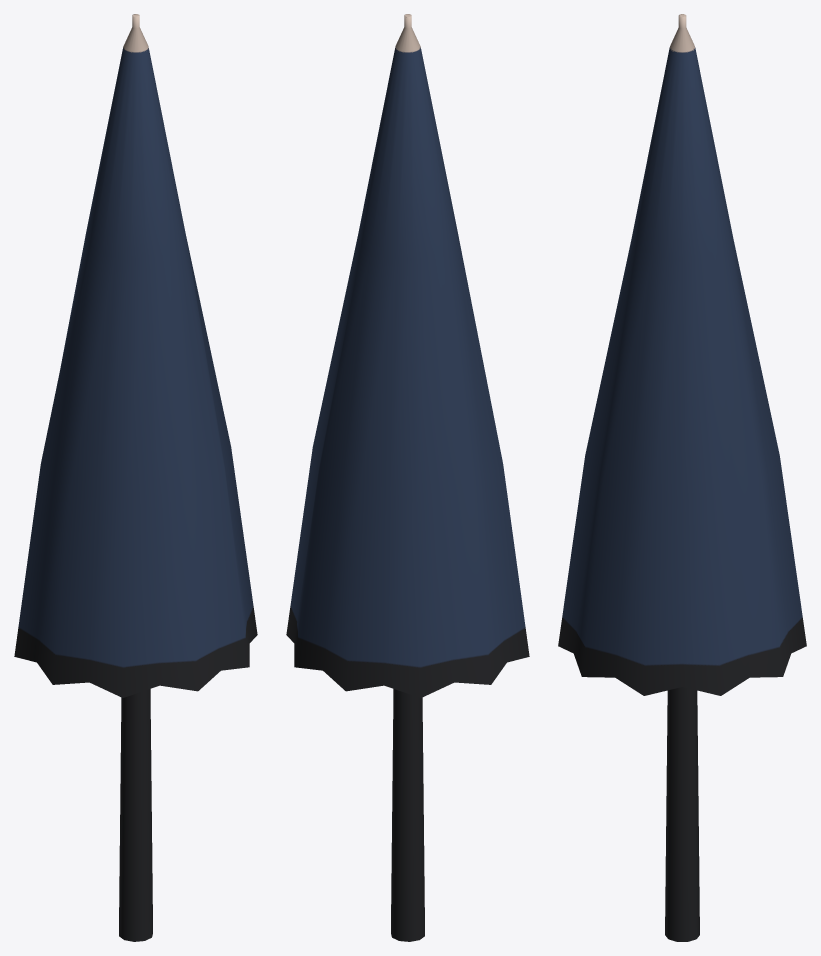
File: umbrella.fbx
3 views of the same model, side by side, from view 1: azimuth 30°, elevation 25°; view 2: azimuth 150°, elevation 25°; view 3: azimuth 270°, elevation 25° (orthographic).
Visible parts, largest first — view 1: umbrella; view 2: umbrella; view 3: umbrella.
Boxes of the visible parts, bbox=[...] form: umbrella: bbox=[14, 14, 257, 941]; umbrella: bbox=[286, 14, 529, 941]; umbrella: bbox=[558, 14, 806, 941].
Size of the model in its own units: 1.16 by 4.97 by 1.22.
Materials: 1 (1 with a texture image).
